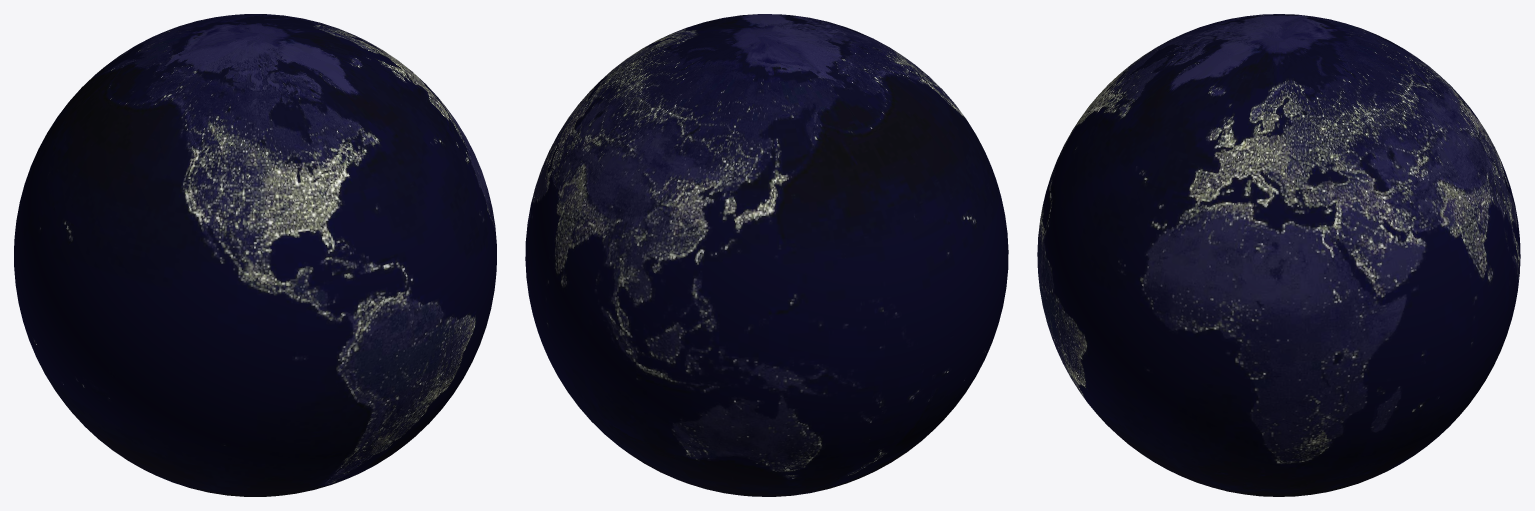
The model's file is earth.fbx.
The picture shows the model from 3 angles, left to right: view 1: azimuth 30°, elevation 25°; view 2: azimuth 150°, elevation 25°; view 3: azimuth 270°, elevation 25°; orthographic projection.
Visible parts, largest first — view 1: Tierra1; view 2: Tierra1; view 3: Tierra1.
Boxes of the visible parts, x1,y1,x2,y2 form: Tierra1: (14, 14, 496, 496); Tierra1: (525, 14, 1008, 496); Tierra1: (1037, 14, 1520, 496).
Bounding box in the file's own units: 18 × 18 × 18.
1 material, 1 textured.
